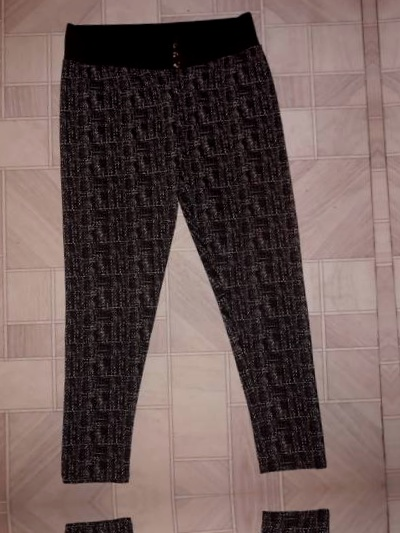Pants: (9, 0, 364, 492), (38, 501, 393, 533)
